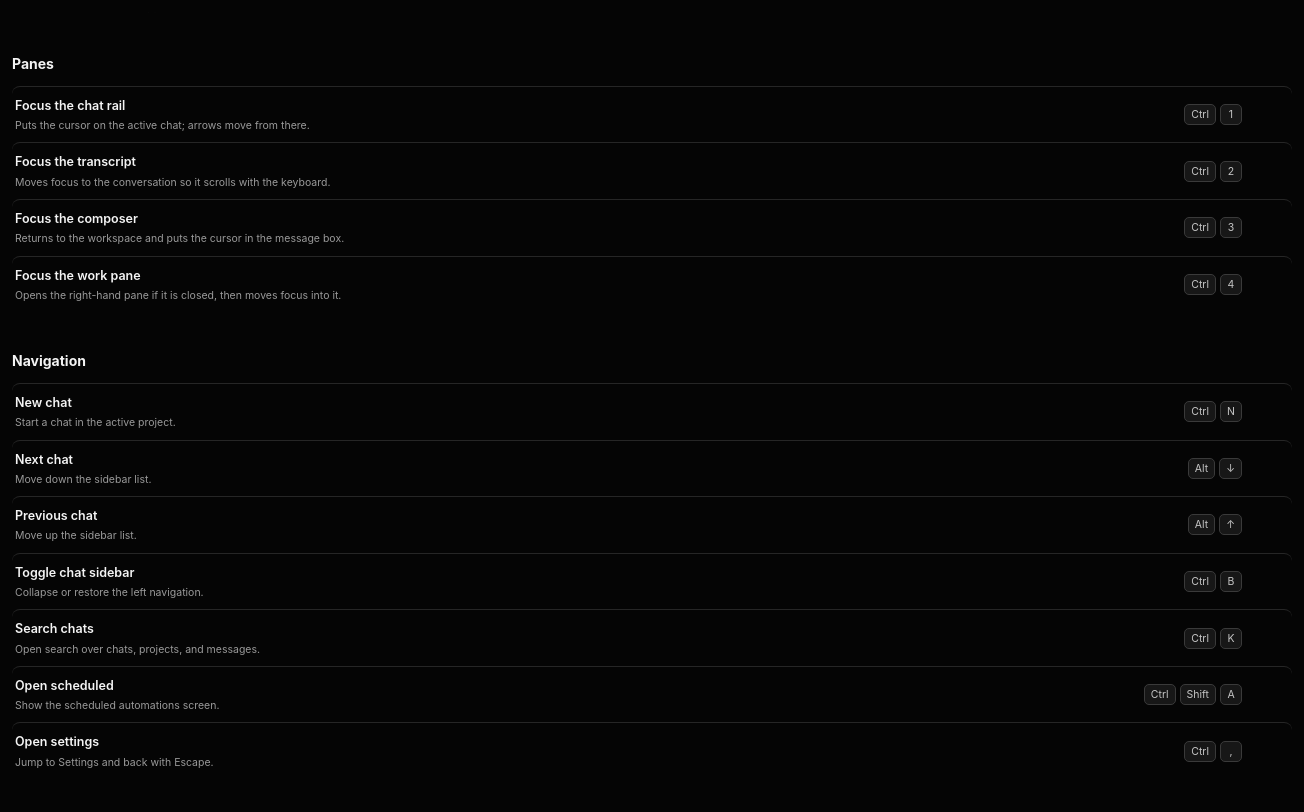
KeybindingsSettings › clears a binding on Backspace
(page scrolled)
Step 1. Click the button with aria-label "Change the shortcut" → {"x": 1193, "y": 412}, box [1134, 396, 1252, 427]
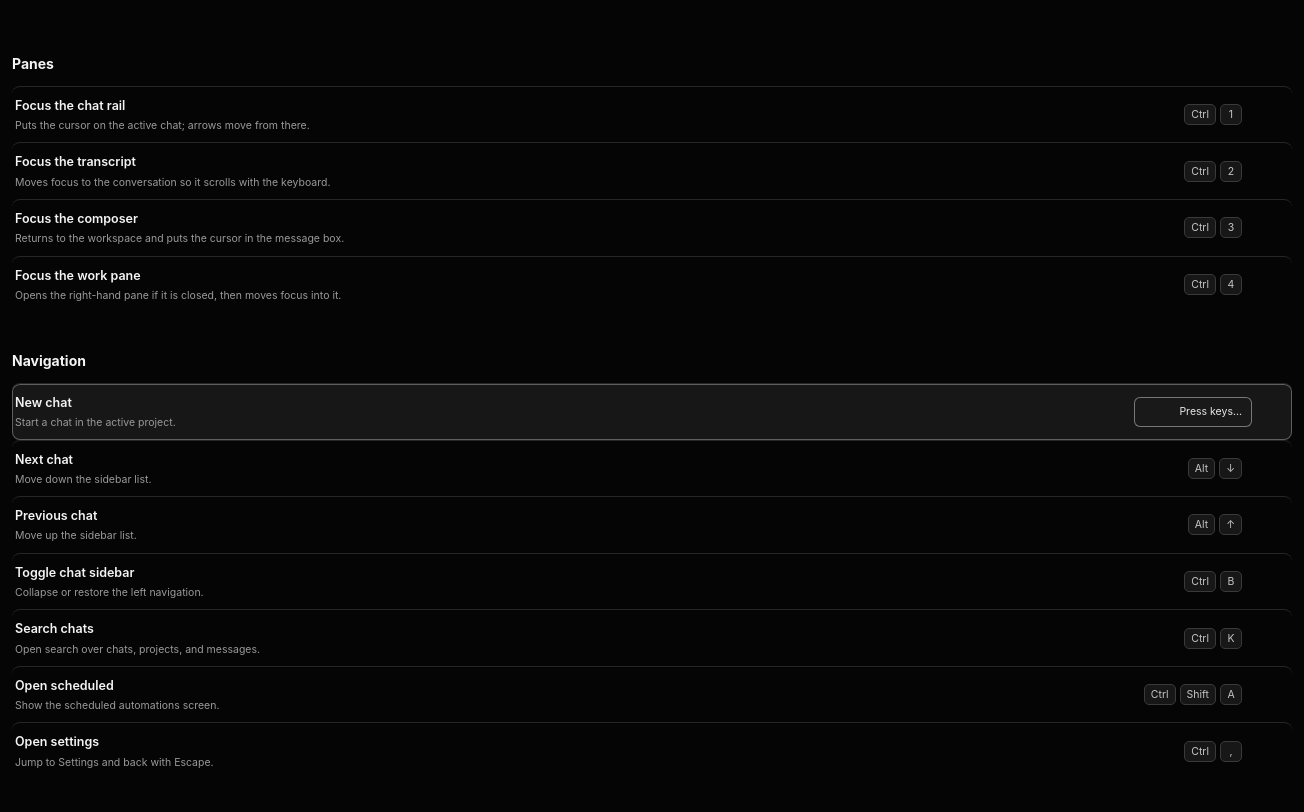
Step 2. Press Backspace
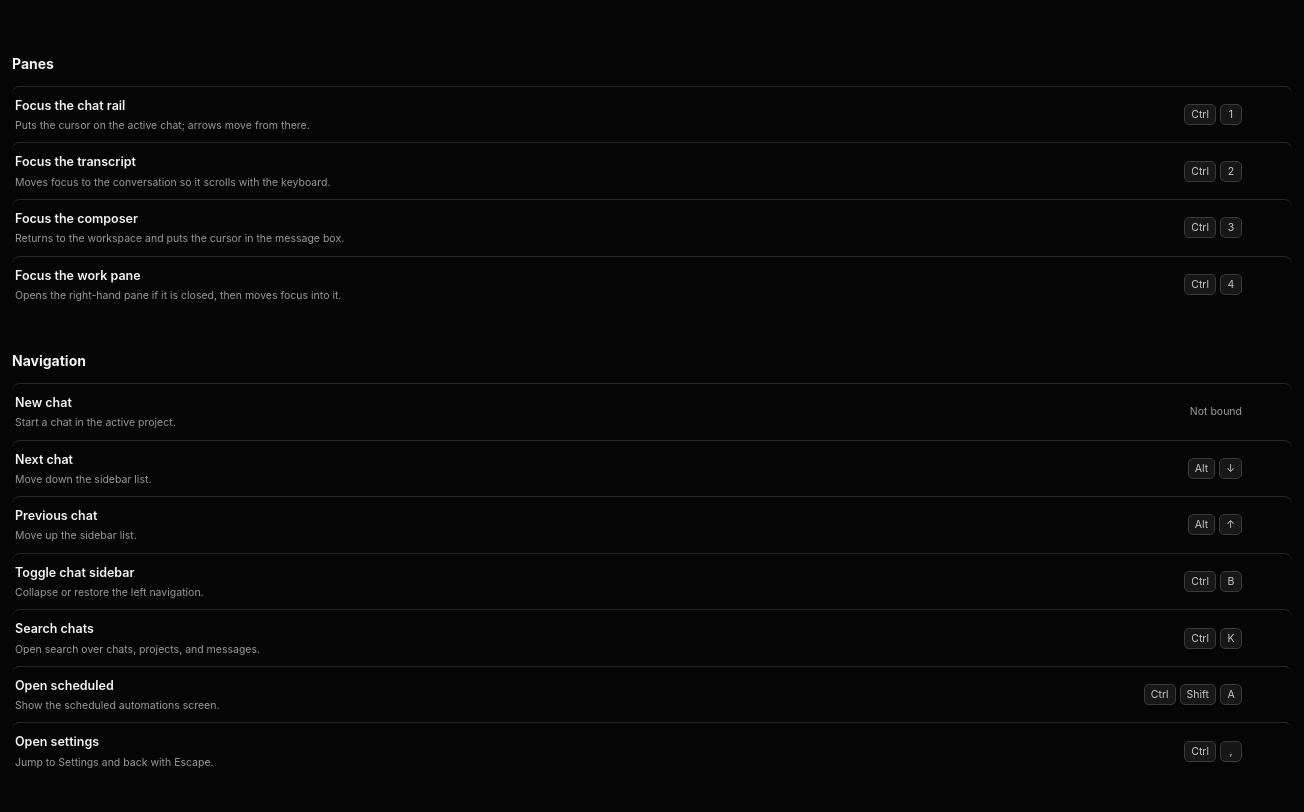
Check: the text with class "keybinding-unbound" reads "Not bound", box [1190, 405, 1242, 418]
